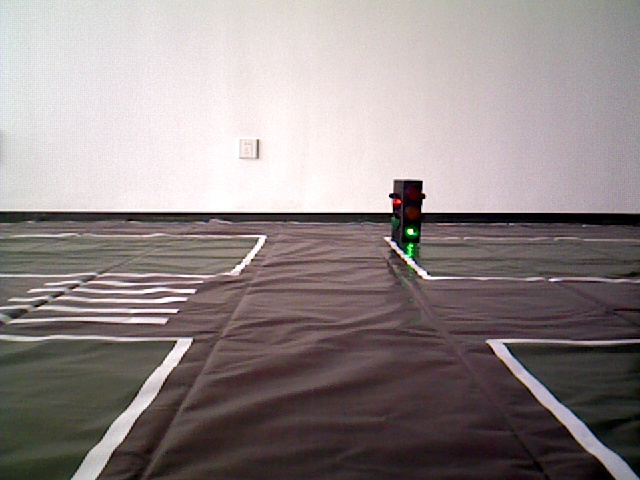green: (393, 181, 420, 241)
